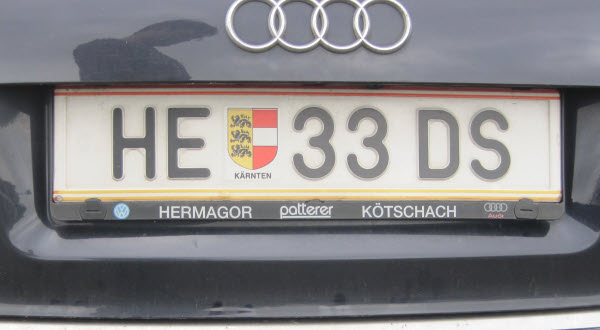license_plate: (51, 86, 561, 203)
